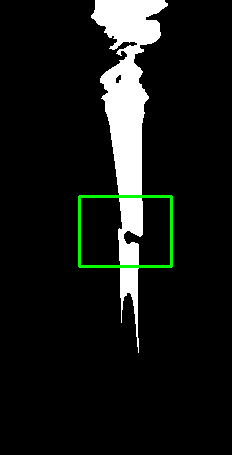fracture: (79, 197, 171, 267)
